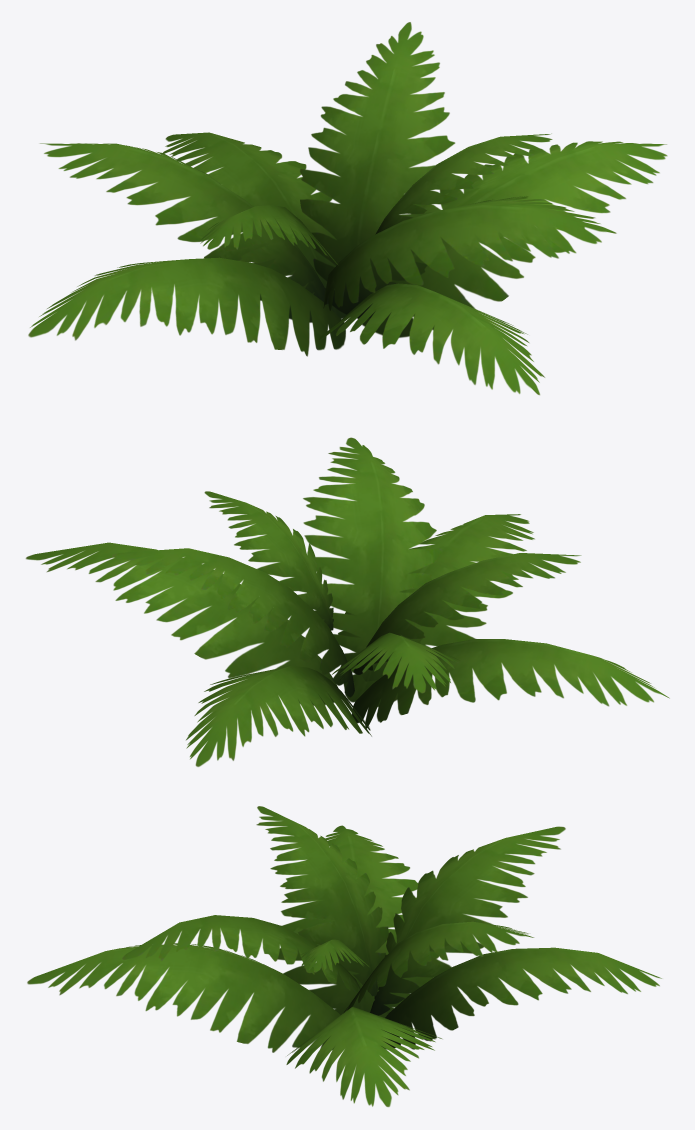
File: fern_stylized.glb
The picture shows the model from 3 angles, top to bottom: view 1: azimuth 30°, elevation 25°; view 2: azimuth 150°, elevation 25°; view 3: azimuth 270°, elevation 25°; orthographic projection. The views are drawn at different scales.
Parts seen in each view (by area): view 1: Fern_1; view 2: Fern_1; view 3: Fern_1.
Boxes of the visible parts, x1,y1,x2,y2 form: Fern_1: (28,22,667,395); Fern_1: (25,437,669,766); Fern_1: (27,806,661,1107).
Bounding box in the file's own units: 9.05 × 2.69 × 8.49.
1 material, 1 textured.
